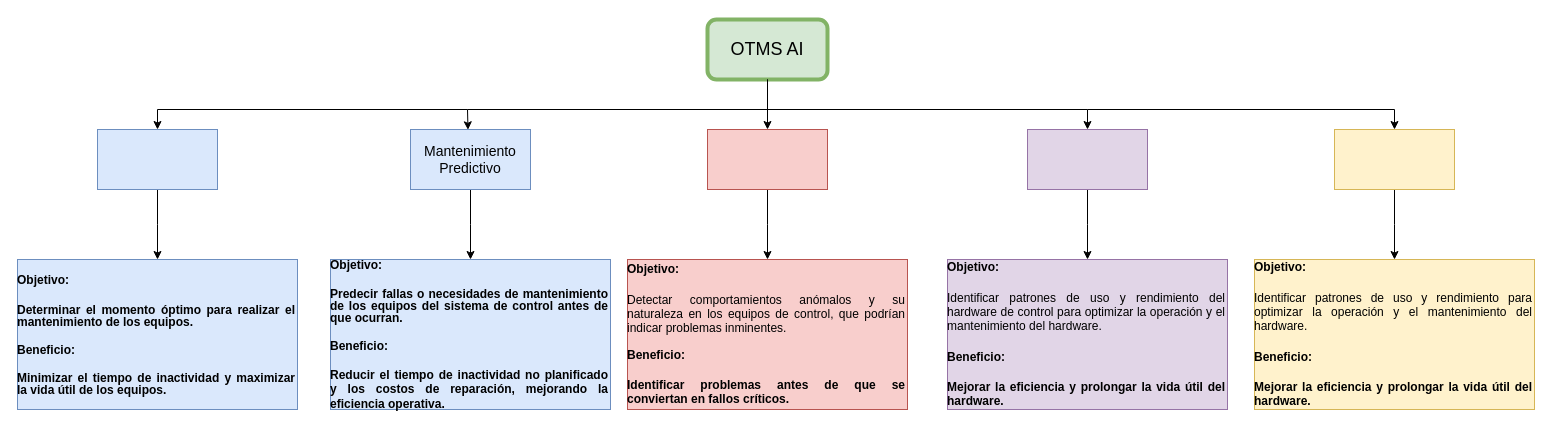
The diagram is 1552 pixels wide and 444 high, and some of its shapes have lost their labels. Each missing label, with the box of its shape:
Detección de anomalías y naturaleza: (706, 128, 828, 190)
Generación de informes con LN: (1334, 128, 1454, 190)
Optimización rendimiento Hardware: (1026, 128, 1148, 190)
Planificación de mantenimiento preventivo: (96, 128, 218, 190)
